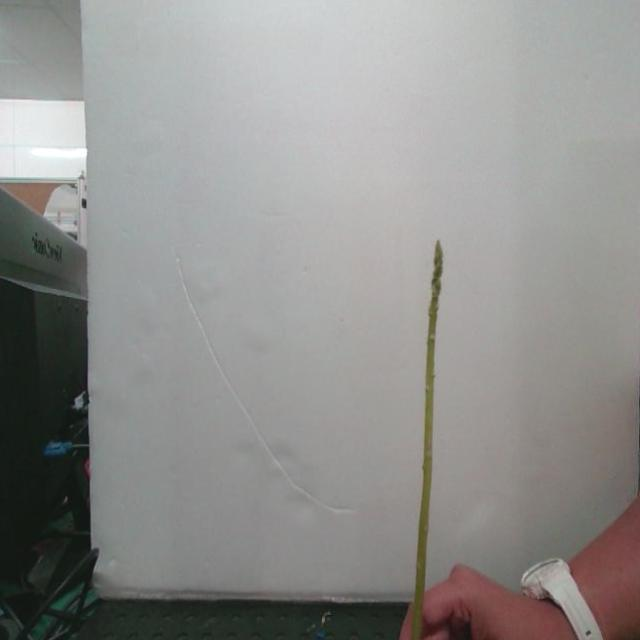aspargus: (409, 241, 445, 640)
